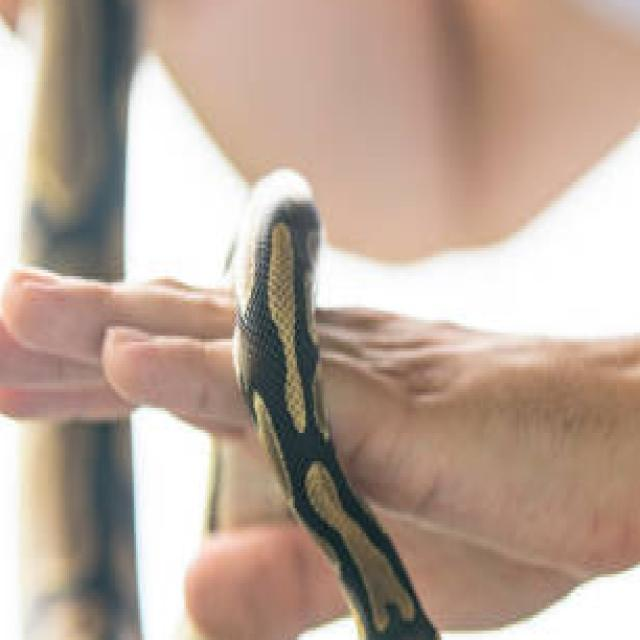snake: (0, 0, 460, 640)
